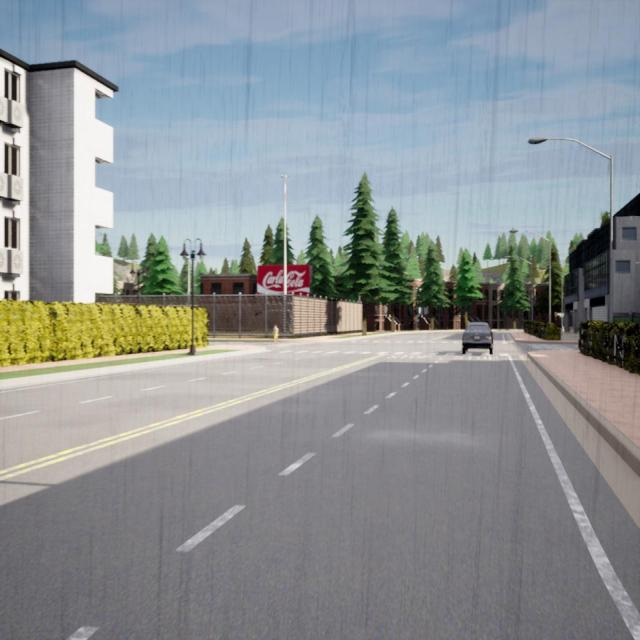Pedestrian: (272, 324, 280, 345)
Vehicle: (462, 322, 493, 354)
